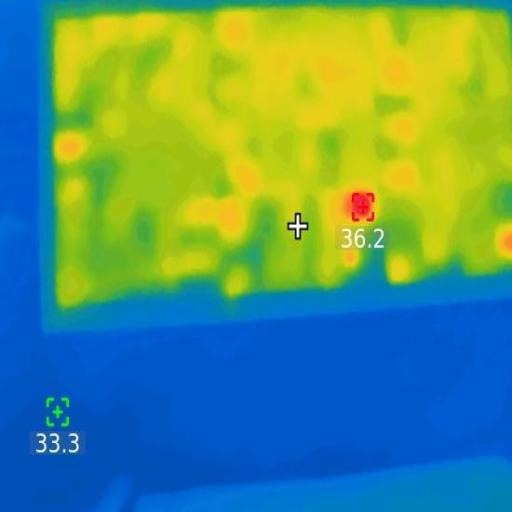hotspot: (354, 189, 376, 222)
